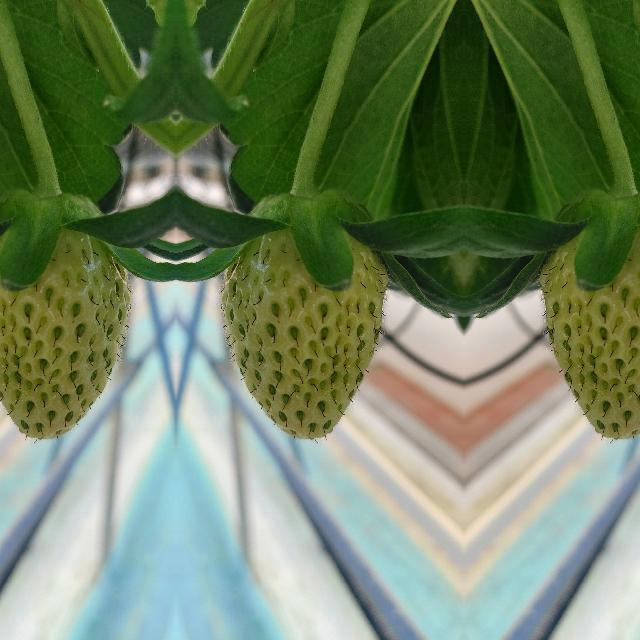Health_25: (214, 225, 390, 445), (0, 225, 136, 445), (536, 225, 640, 445)
